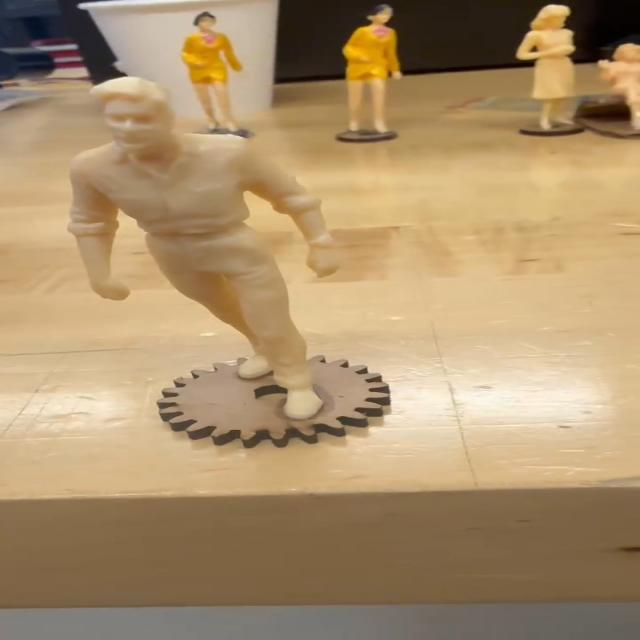Unauthorized: (62, 75, 352, 432)
